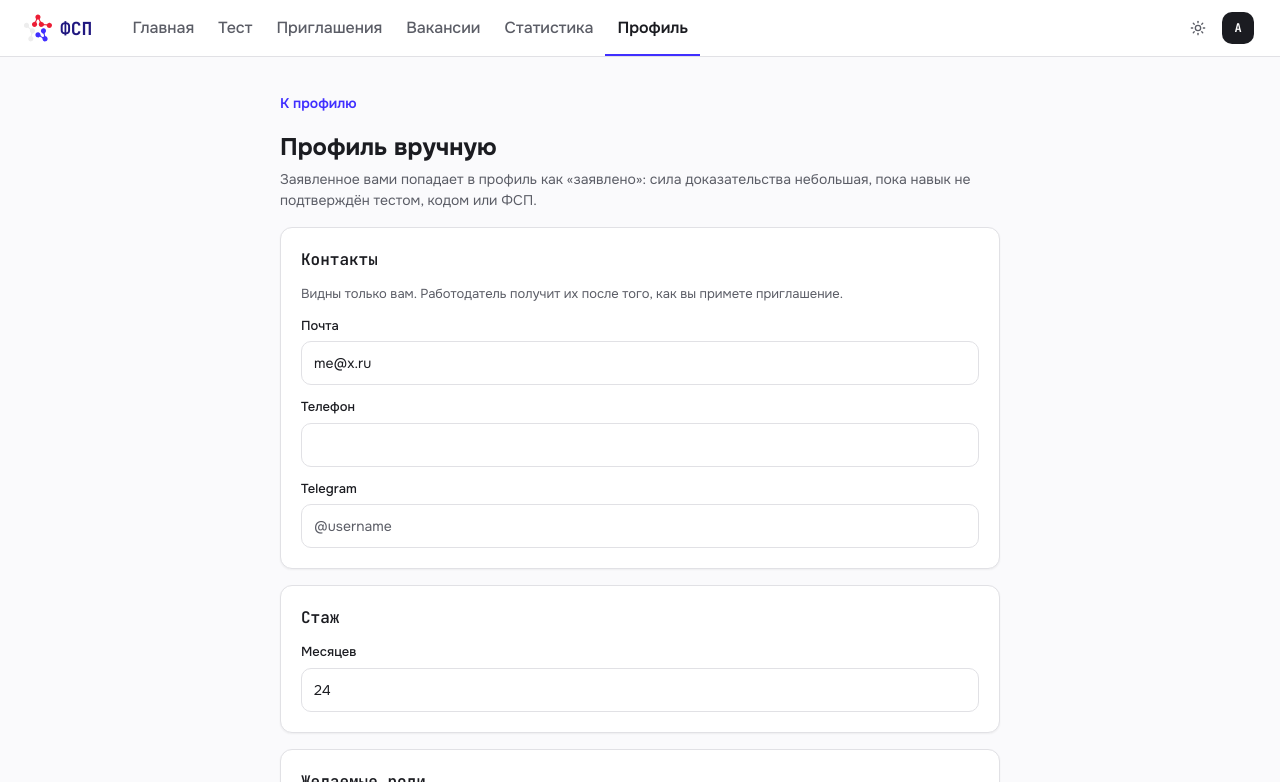
Test case: форма подставляет данные профиля и отправляет PATCH без нетронутых стека и софта
Expected: the field with test id "profile-edit-email" holds "me@x.ru", [301, 341, 979, 385]
Expected: the field with test id "profile-edit-months" holds "24", [301, 668, 979, 712]
In the field with test id "profile-edit-phone": (640, 444) [301, 422, 979, 466], type "+7 900 123-45-67"
(page scrolled)
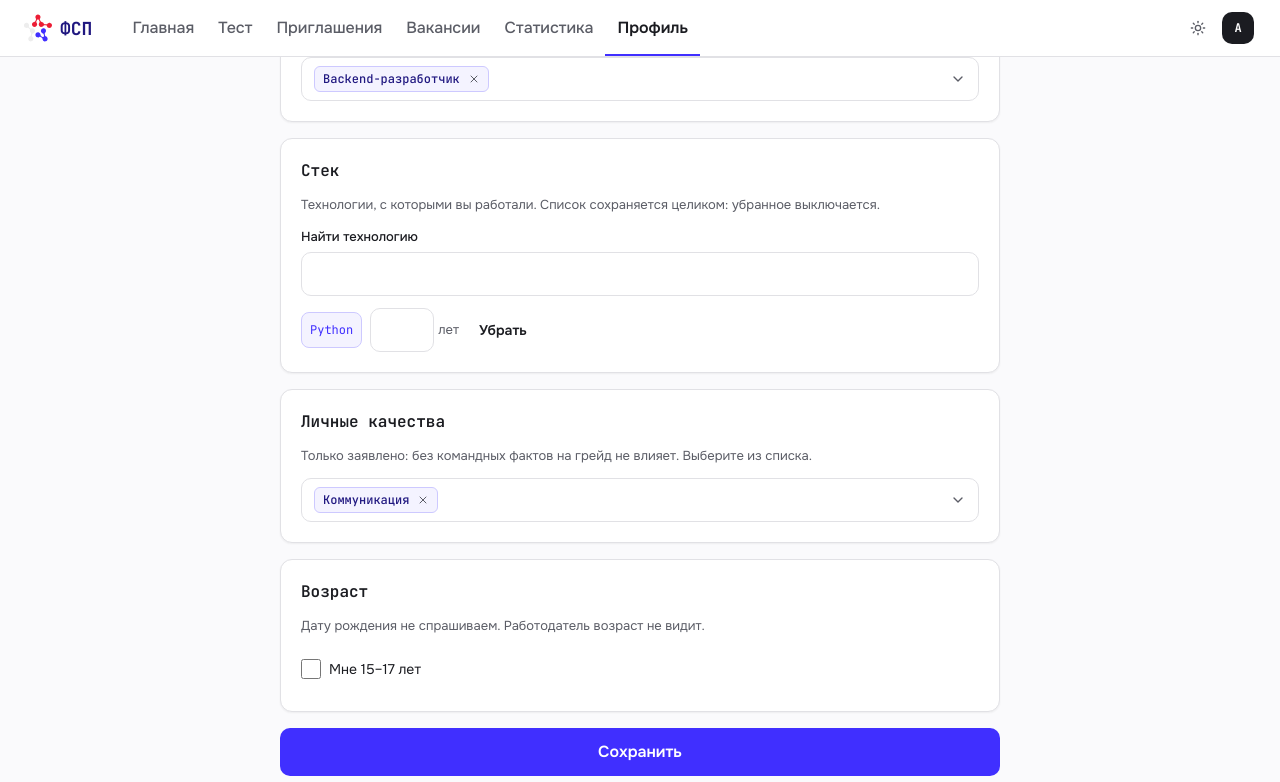
Click the button with test id "profile-edit-save": (640, 752) [280, 728, 1000, 776]
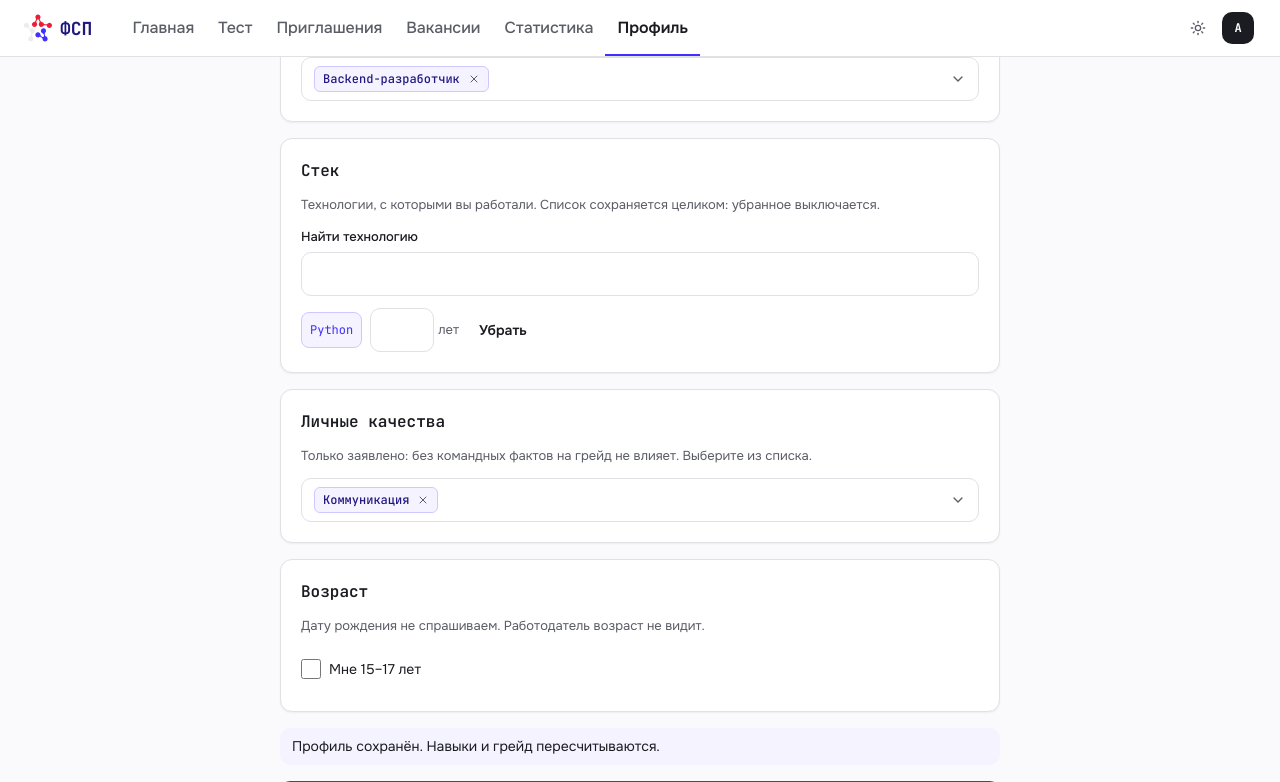
Result: the message "Профиль сохранён. Навыки и грейд пересчитываются." is shown at [280, 728, 1000, 765]
